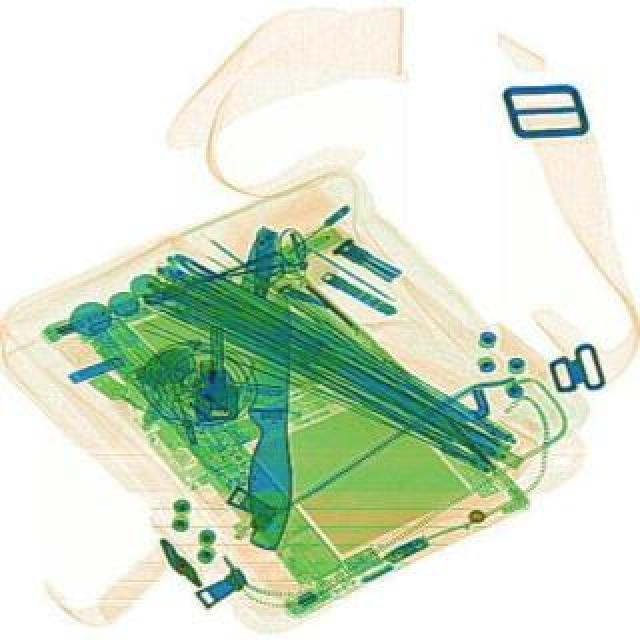knife: (238, 290, 302, 550)
